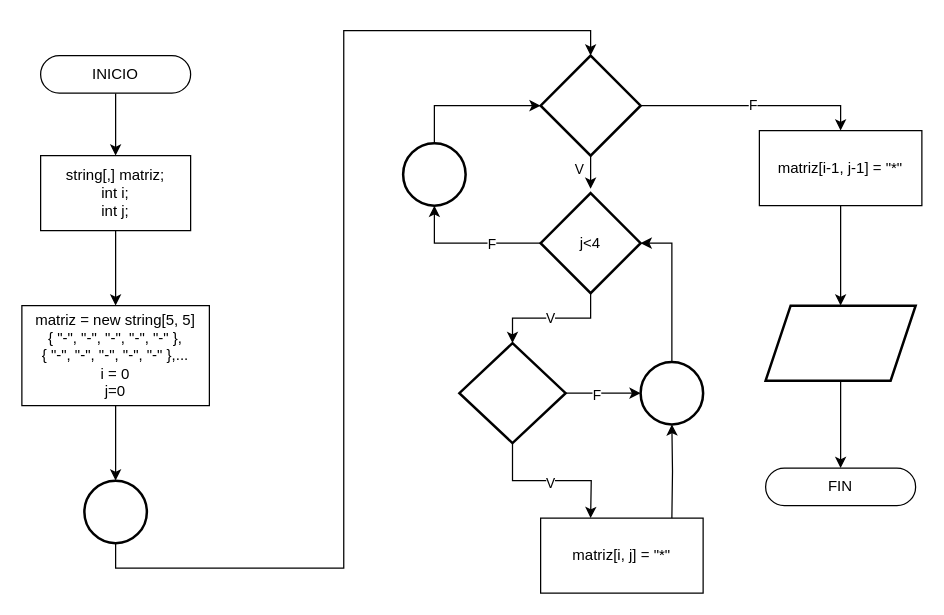
The diagram is 944 pixels wide and 615 high, and some of its shapes have lost their labels. Here are the shapes that lost their labels. From the top down, the centre of each, then its label:
At (590,105): "i<5".
At (840,342): "matriz".
At (512,392): "i=j".
